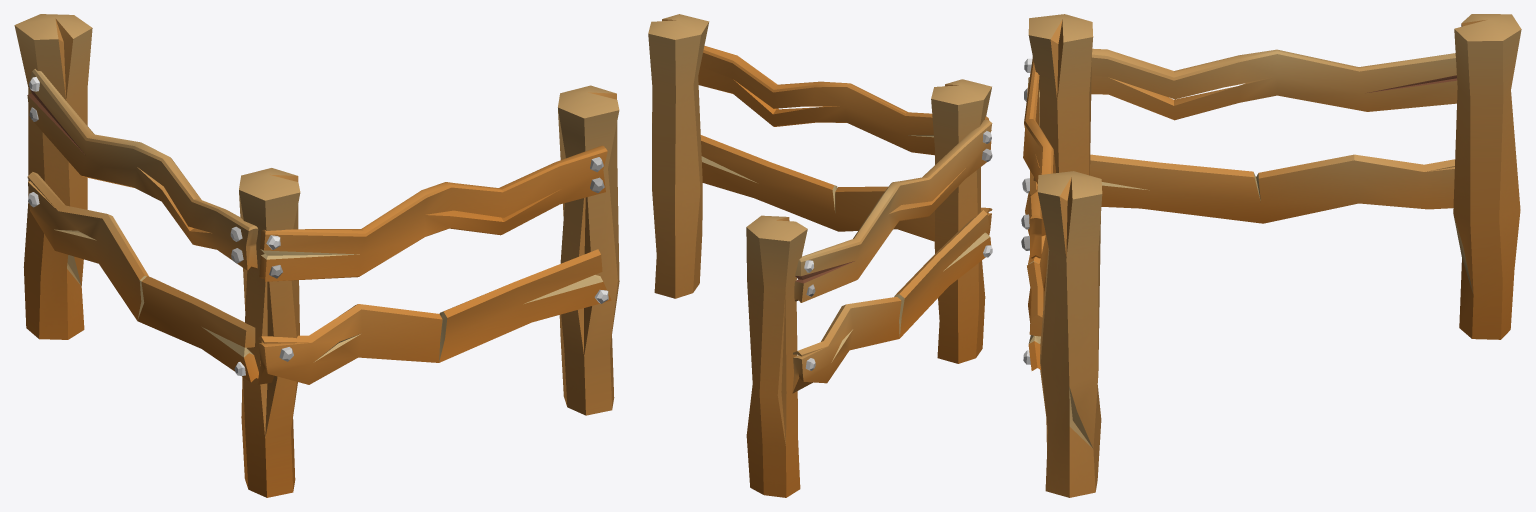
File: valla13.fbx
The picture shows the model from 3 angles, left to right: view 1: azimuth 30°, elevation 25°; view 2: azimuth 150°, elevation 25°; view 3: azimuth 270°, elevation 25°; orthographic projection. The views are drawn at different scales.
Parts seen in each view (by area): view 1: VallaCurvaCorta; view 2: VallaCurvaCorta; view 3: VallaCurvaCorta.
Boxes of the visible parts, x1=… form: VallaCurvaCorta: x1=14, y1=14, x2=619, y2=497; VallaCurvaCorta: x1=648, y1=14, x2=992, y2=497; VallaCurvaCorta: x1=1021, y1=14, x2=1521, y2=497.
Size of the model in its own units: 803 by 611 by 896.
